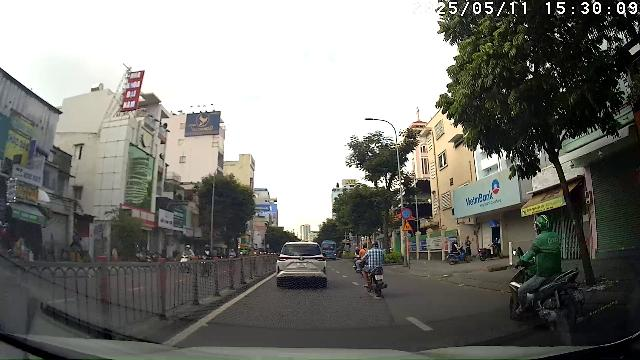131a-cam-do-xe: (400, 208, 412, 220)
